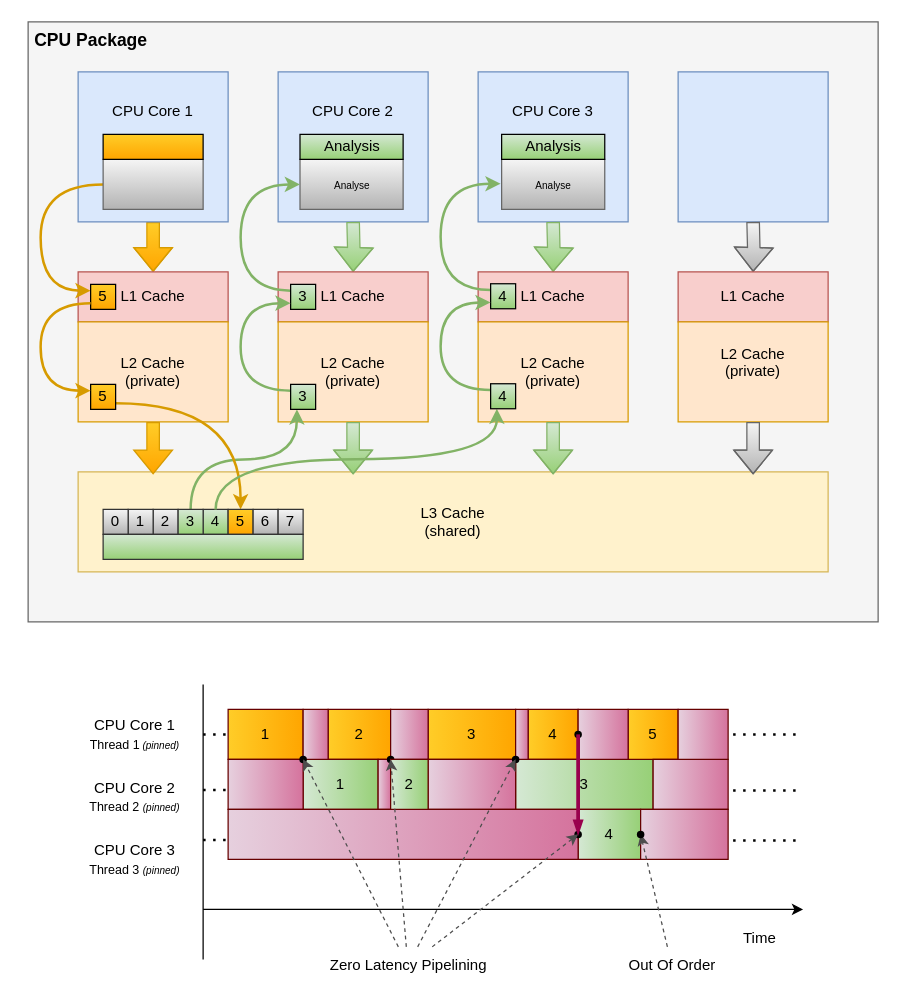
This 900x1006 diagram has some shape labels left out. The shapes that lost their labels are listed below. From the top down, each one's centre as x and y in pixels, then its label:
At [152,146]: "Market Data".
At [752,146]: "CPU Core 4".
At [152,183]: "Receive Parse Notify".
At [202,546]: "Ring-Buffer".
